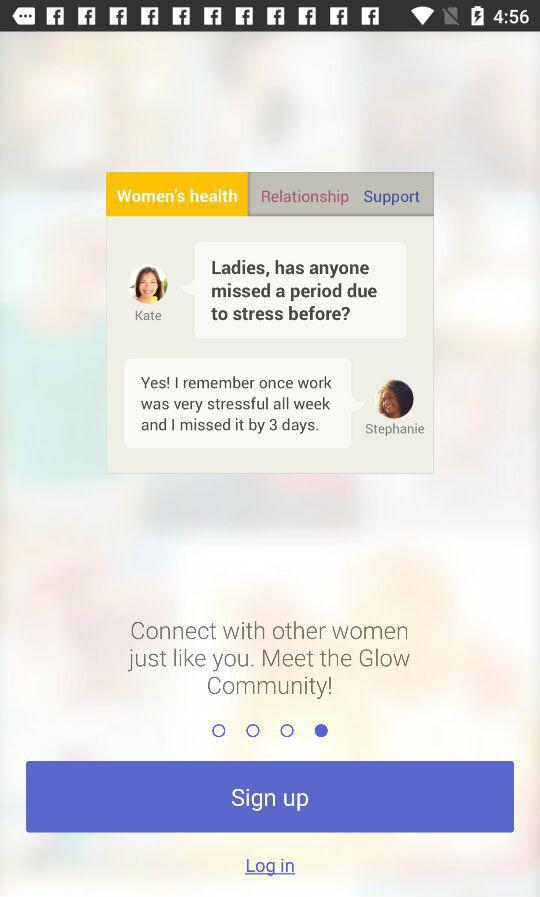Image: (106, 172, 435, 475)
PageIndicator: (211, 723, 330, 738)
Text: (127, 621, 411, 700), (245, 858, 296, 877)
TextButton: (26, 761, 514, 833)
UpperTaskBar: (1, 1, 540, 33)
